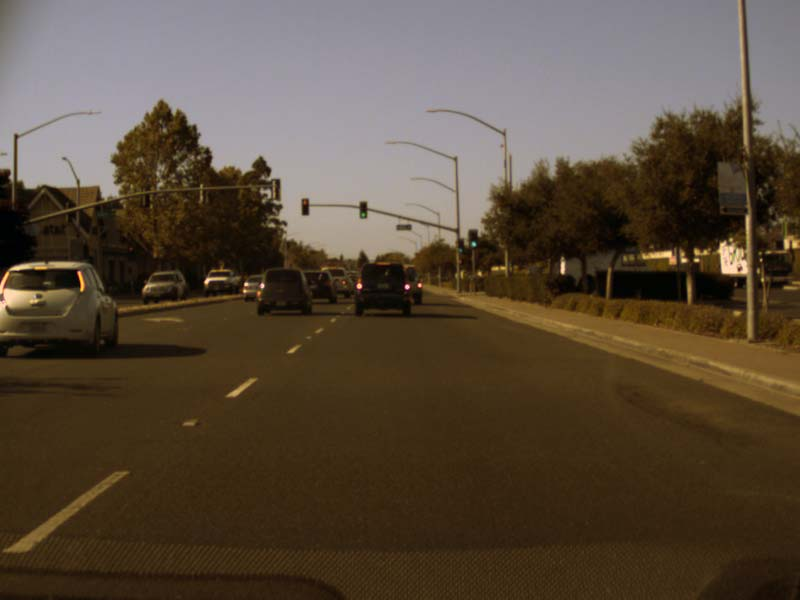Green: (469, 229, 476, 248), (359, 201, 366, 218), (458, 240, 463, 252)
Red: (129, 244, 135, 262), (302, 198, 308, 214)
